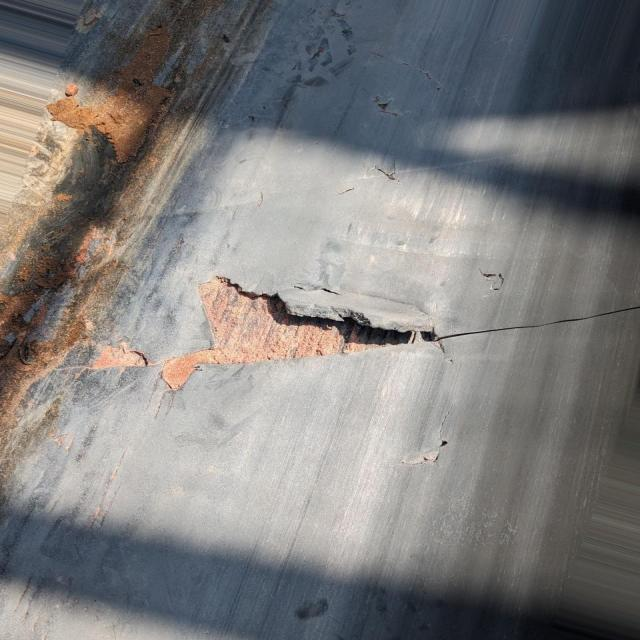Tear: (73, 271, 640, 396), (369, 161, 404, 190), (475, 265, 509, 292), (376, 94, 406, 121)
